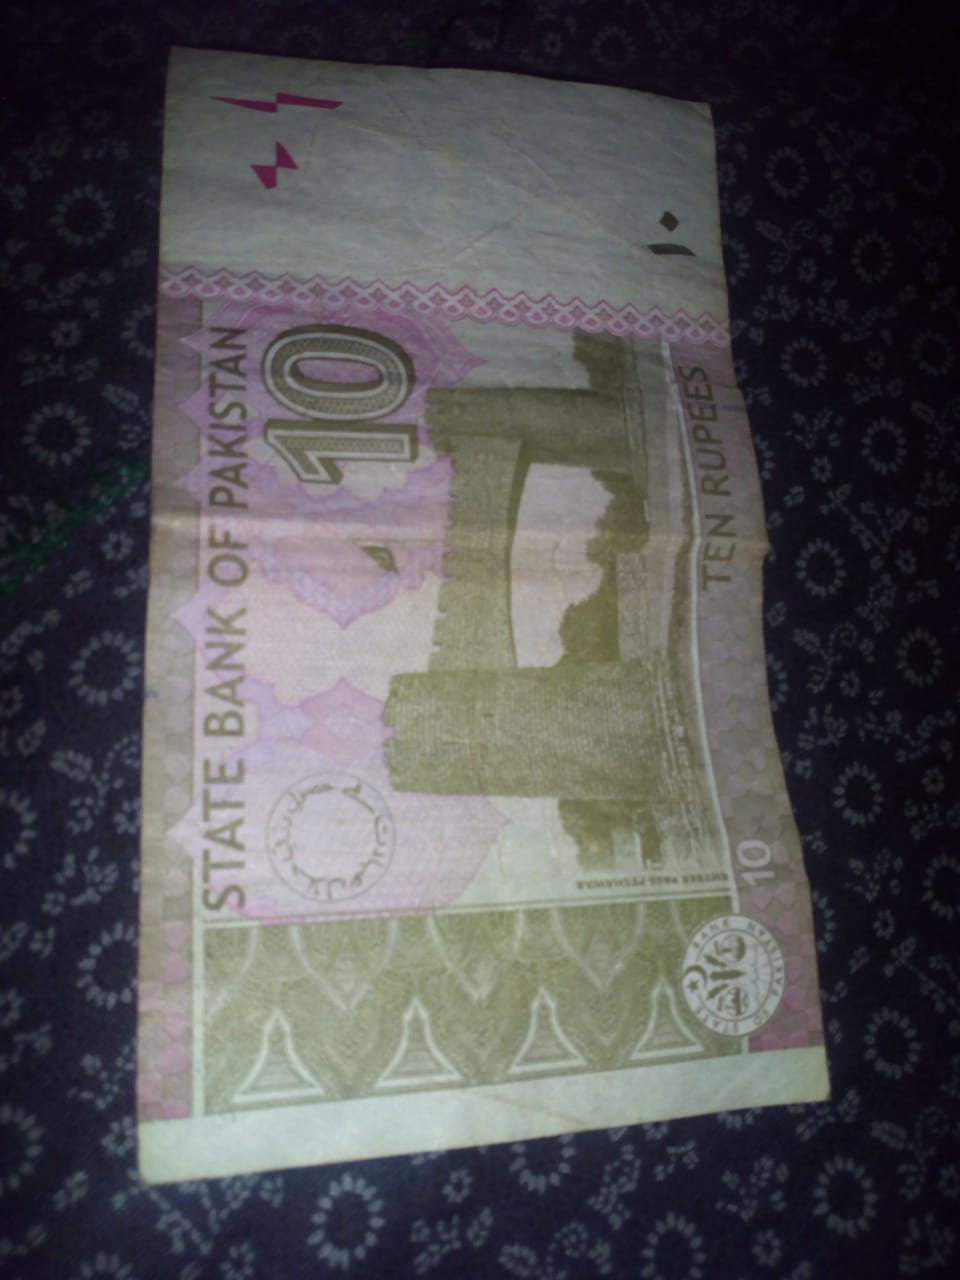10 rupee: (126, 44, 853, 1193)
